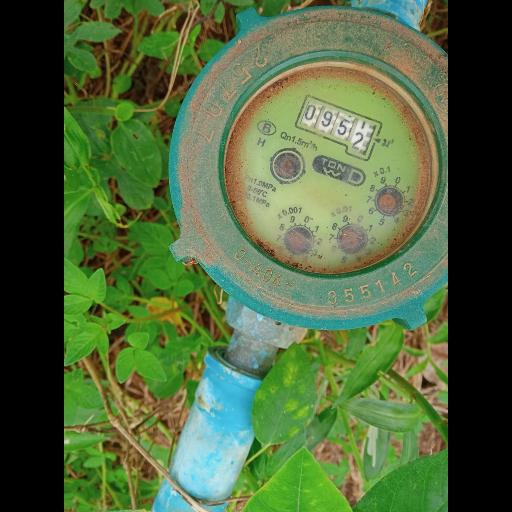0: (300, 100, 323, 129)
2: (347, 119, 372, 153)
5: (333, 113, 355, 141)
9: (316, 106, 339, 134)
border_water_meter_number: (292, 93, 387, 163)
